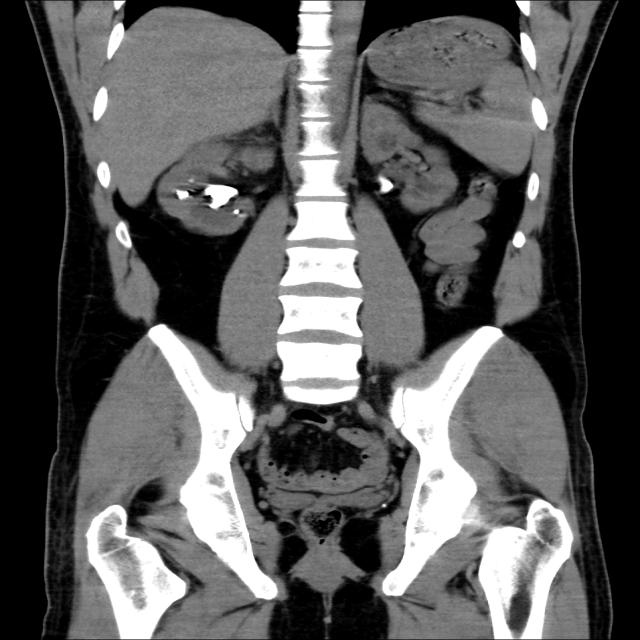kidneystone: (204, 185, 238, 209), (377, 175, 395, 193), (176, 189, 189, 200)
